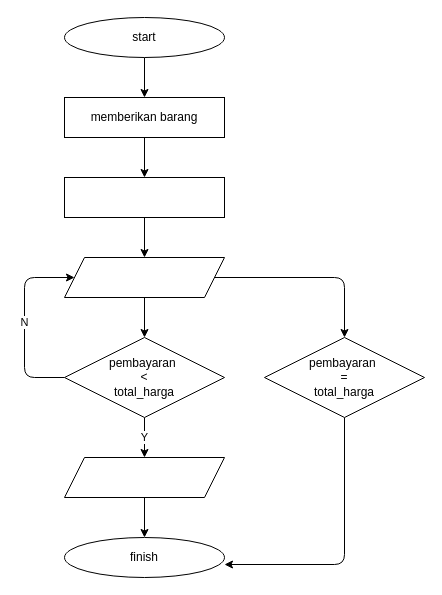
This 442x595 diagram has some shape labels left out. The shapes that lost their labels are listed below. From the top down, each one's box as (x1, y1, x2, y2) in pixels, then its label:
(64, 176, 224, 218): menghitung total_harga
(64, 256, 224, 298): melakukan pembayaran
(64, 456, 224, 498): print kembalian
